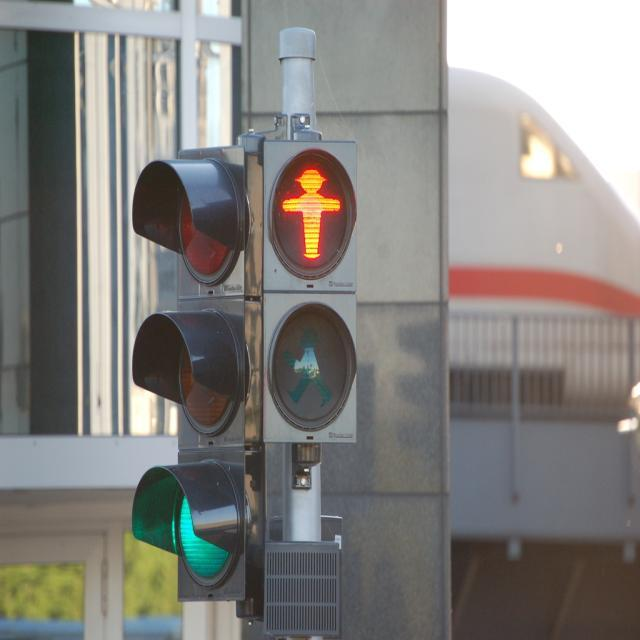traffic light: (123, 143, 249, 605), (261, 138, 357, 445)
